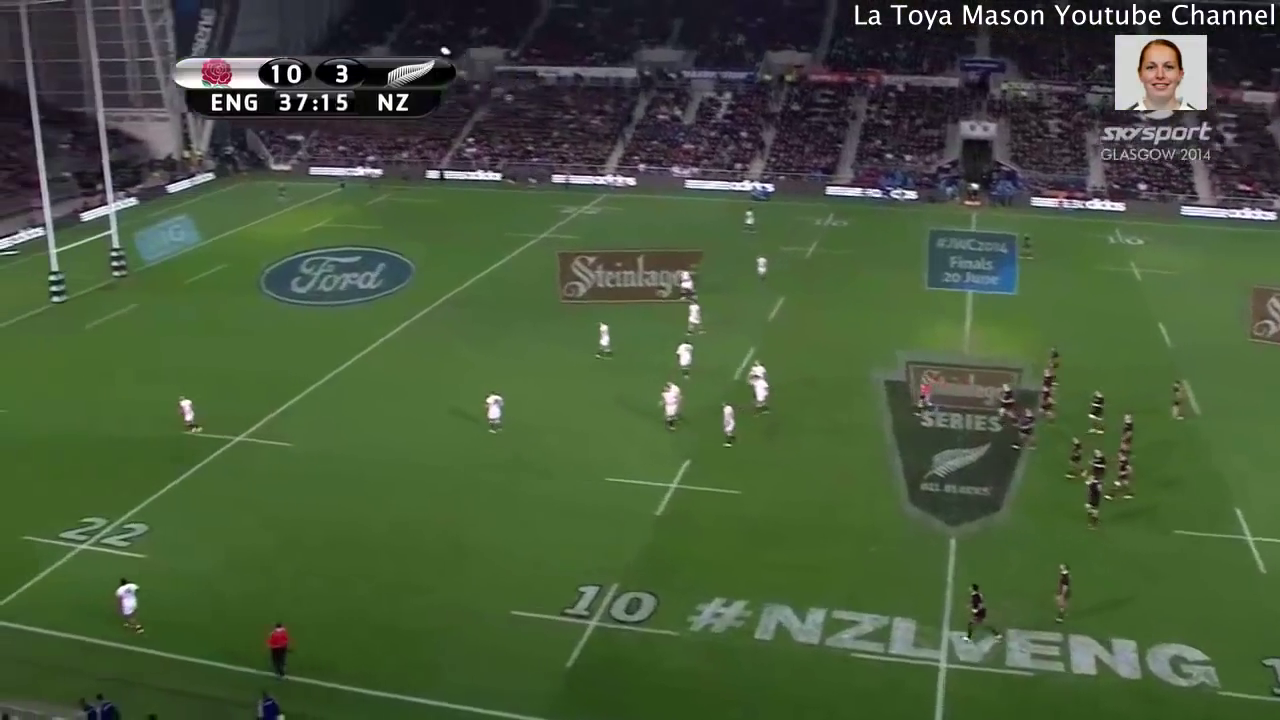10_metre: (505, 578, 682, 675), (601, 456, 748, 521), (1164, 503, 1280, 581), (1089, 252, 1181, 283), (1084, 224, 1164, 252), (776, 238, 855, 263), (792, 209, 864, 232)
player: (959, 579, 1010, 652), (109, 573, 149, 642), (1101, 447, 1140, 503), (1046, 560, 1077, 626), (1077, 468, 1104, 534), (593, 315, 620, 367), (1061, 432, 1089, 482), (479, 390, 506, 440), (1009, 406, 1038, 451), (993, 379, 1020, 424), (1084, 387, 1107, 439), (686, 293, 710, 342), (1035, 379, 1059, 426), (909, 378, 936, 418), (176, 393, 201, 436), (716, 400, 737, 450), (673, 336, 694, 386), (657, 381, 677, 432), (1167, 376, 1188, 423), (1084, 447, 1110, 482), (1116, 408, 1136, 451), (665, 376, 682, 424), (752, 250, 771, 288), (739, 205, 761, 237), (677, 265, 694, 304), (1047, 343, 1064, 382), (1017, 230, 1037, 261), (1041, 364, 1057, 392)
post: (1, 1, 144, 309)
